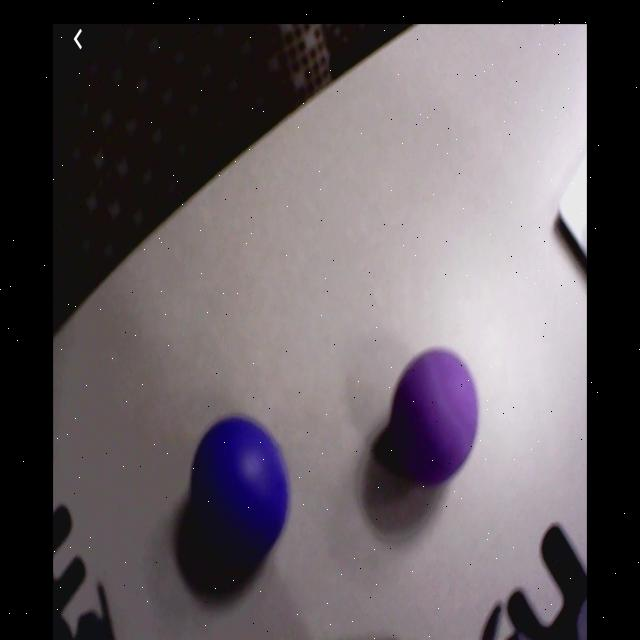ball: (190, 418, 292, 556), (395, 349, 482, 486)
